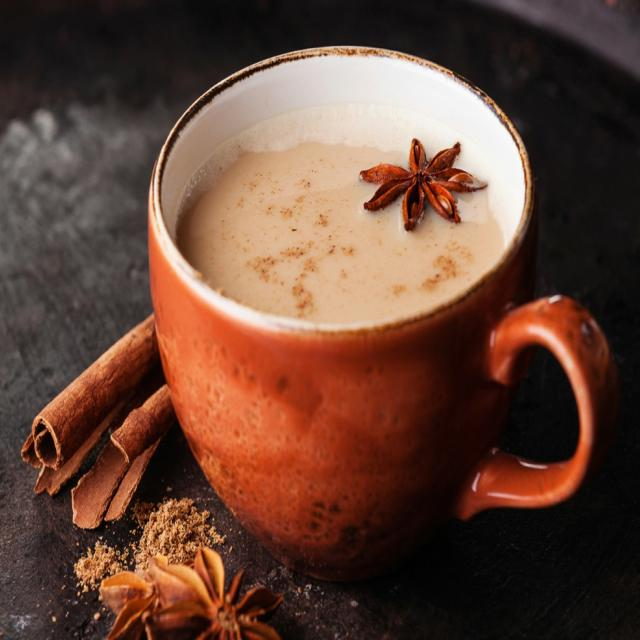Chai: (179, 117, 515, 320)
